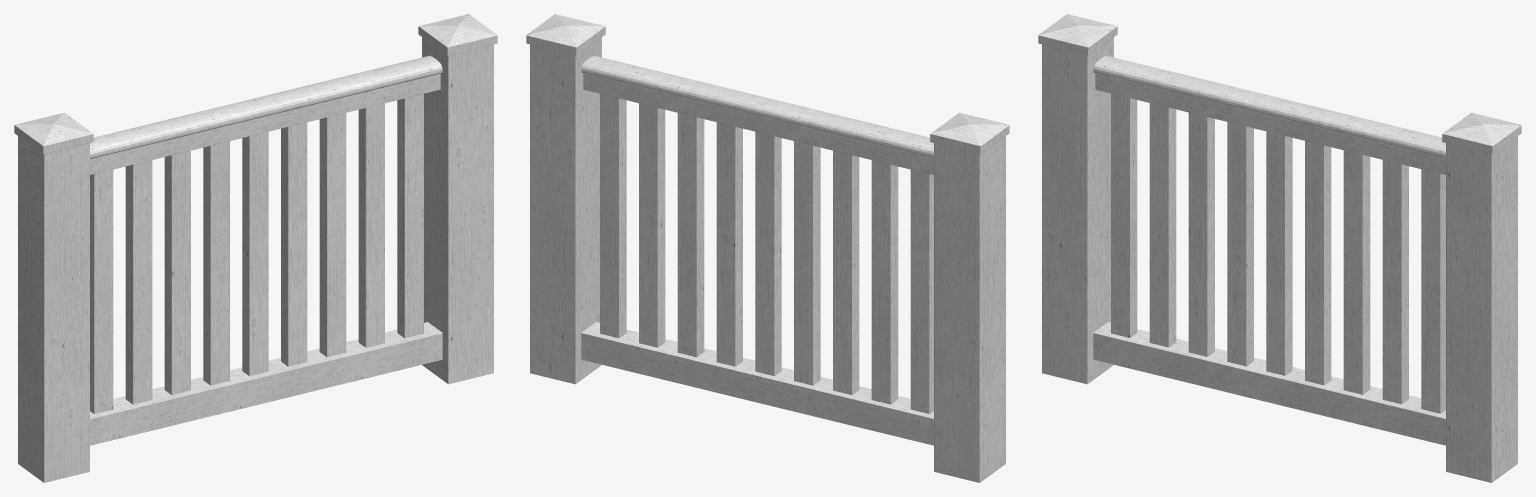
Rendered from Wooden Fence Painted White.fbx.
3 views of the same model, side by side, from view 1: azimuth 30°, elevation 25°; view 2: azimuth 150°, elevation 25°; view 3: azimuth 330°, elevation 25° (orthographic).
Visible parts, largest first — view 1: Wooden Fence Painted White; view 2: Wooden Fence Painted White; view 3: Wooden Fence Painted White.
Part boxes in pixels (left/top/right/bottom): Wooden Fence Painted White: left=14, top=14, right=497, bottom=482; Wooden Fence Painted White: left=526, top=14, right=1009, bottom=482; Wooden Fence Painted White: left=1038, top=14, right=1521, bottom=482.
Bounding box in the file's own units: 141 × 101 × 15.6.
1 material, 1 textured.
